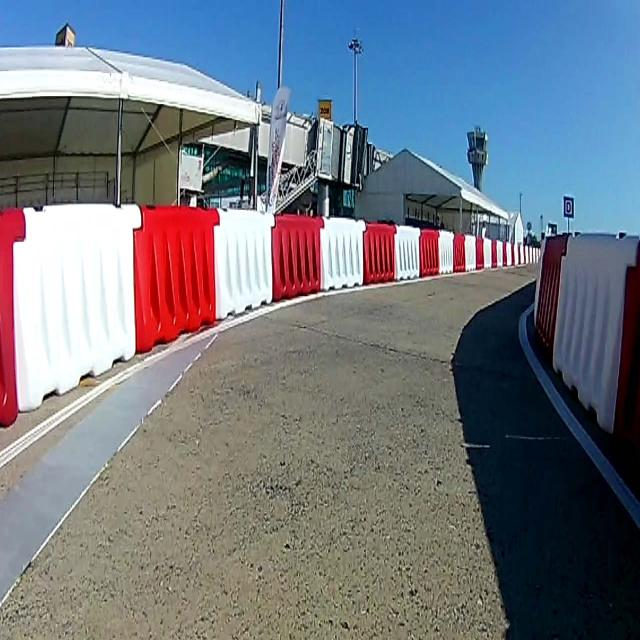durak: (563, 195, 573, 220)
